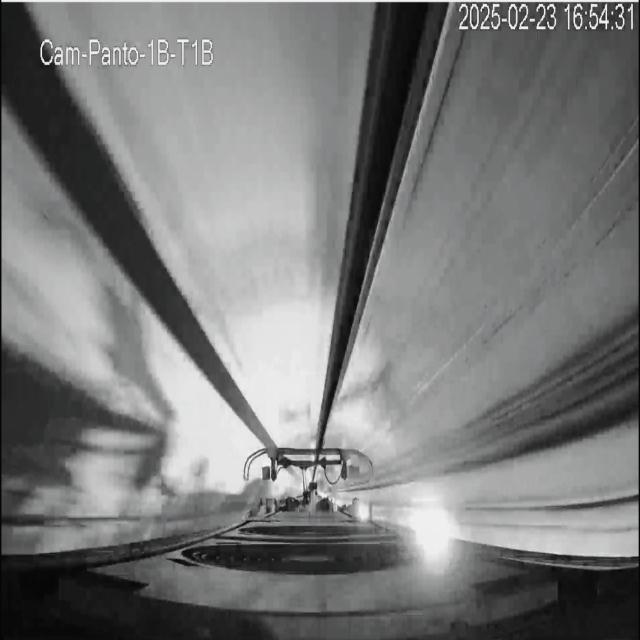Camera Stamp: (35, 27, 218, 72)
Date Stamp: (458, 3, 634, 33)
No - Spark: (407, 497, 462, 567)
Sparks: (324, 448, 373, 487), (243, 447, 275, 481)
